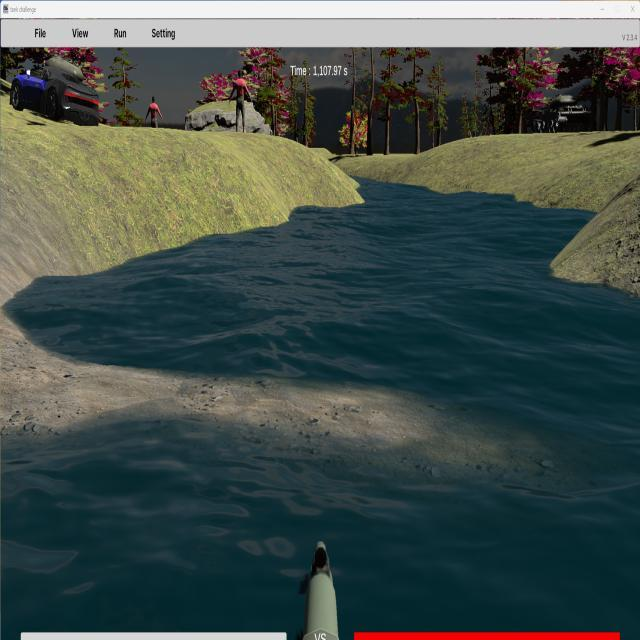Human: (229, 68, 252, 134), (145, 95, 163, 143)
car: (10, 64, 100, 125)
